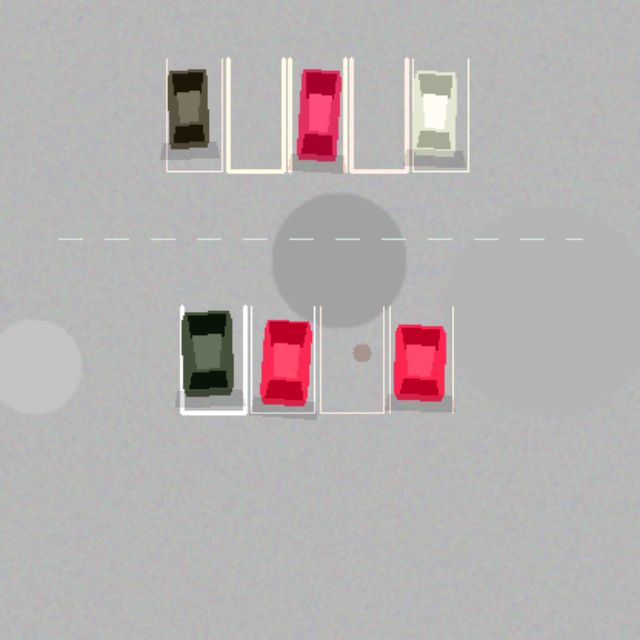space-empty: (320, 306, 383, 412), (228, 58, 283, 171), (351, 58, 406, 171)
space-occupied: (182, 306, 245, 412), (251, 306, 314, 412), (389, 306, 452, 412), (166, 58, 222, 171), (289, 58, 345, 171), (412, 58, 468, 171)
